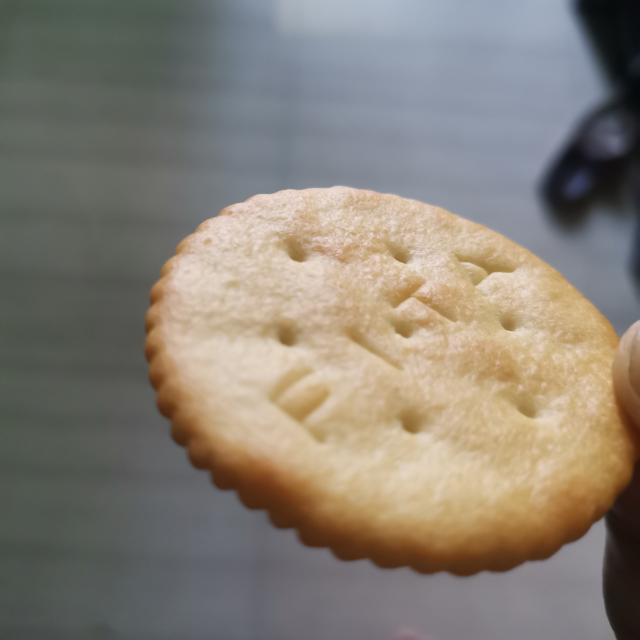Intact: (132, 176, 640, 584)
